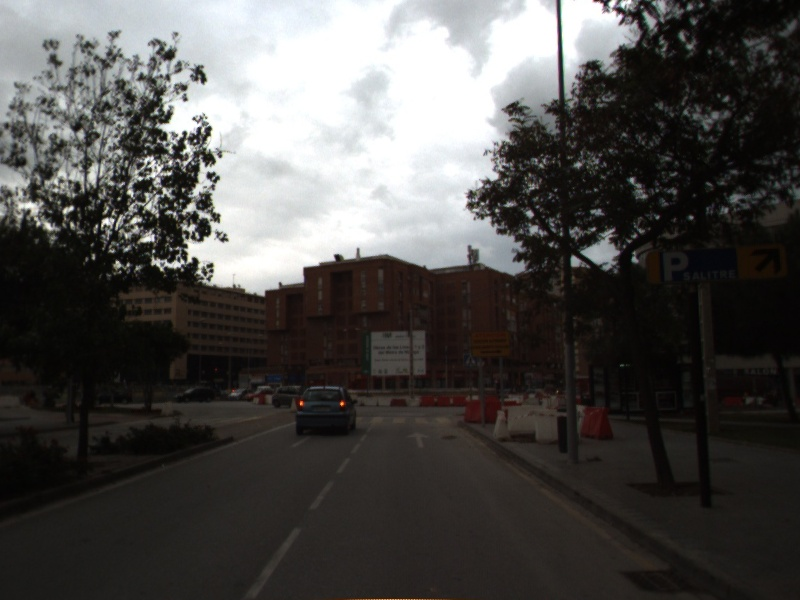STRAIGHT: (405, 430, 431, 450)
